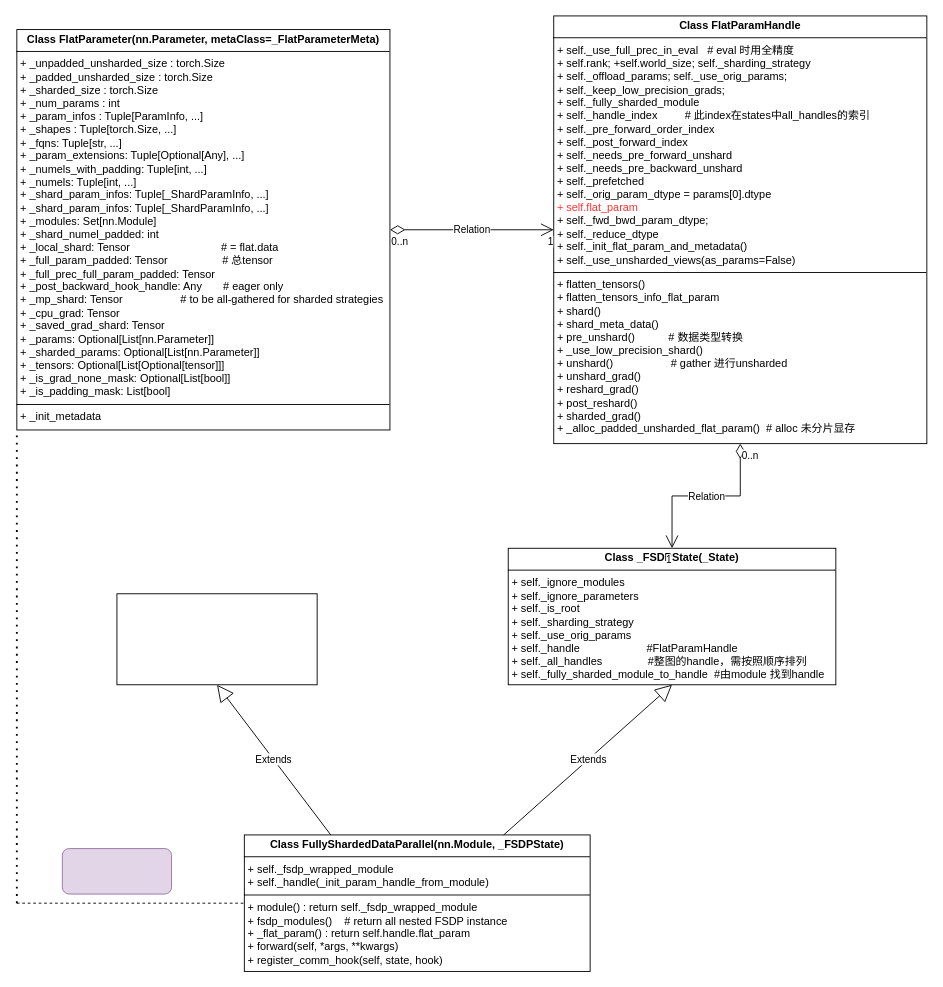
The diagram is 943 pixels wide and 987 high, and some of its shapes have lost their labels. Each missing label, with the centre of its shape:
Class nn.Module + _parameters + _modules + forward: point (216, 639)
FLAT_PARAM: point (116, 871)
